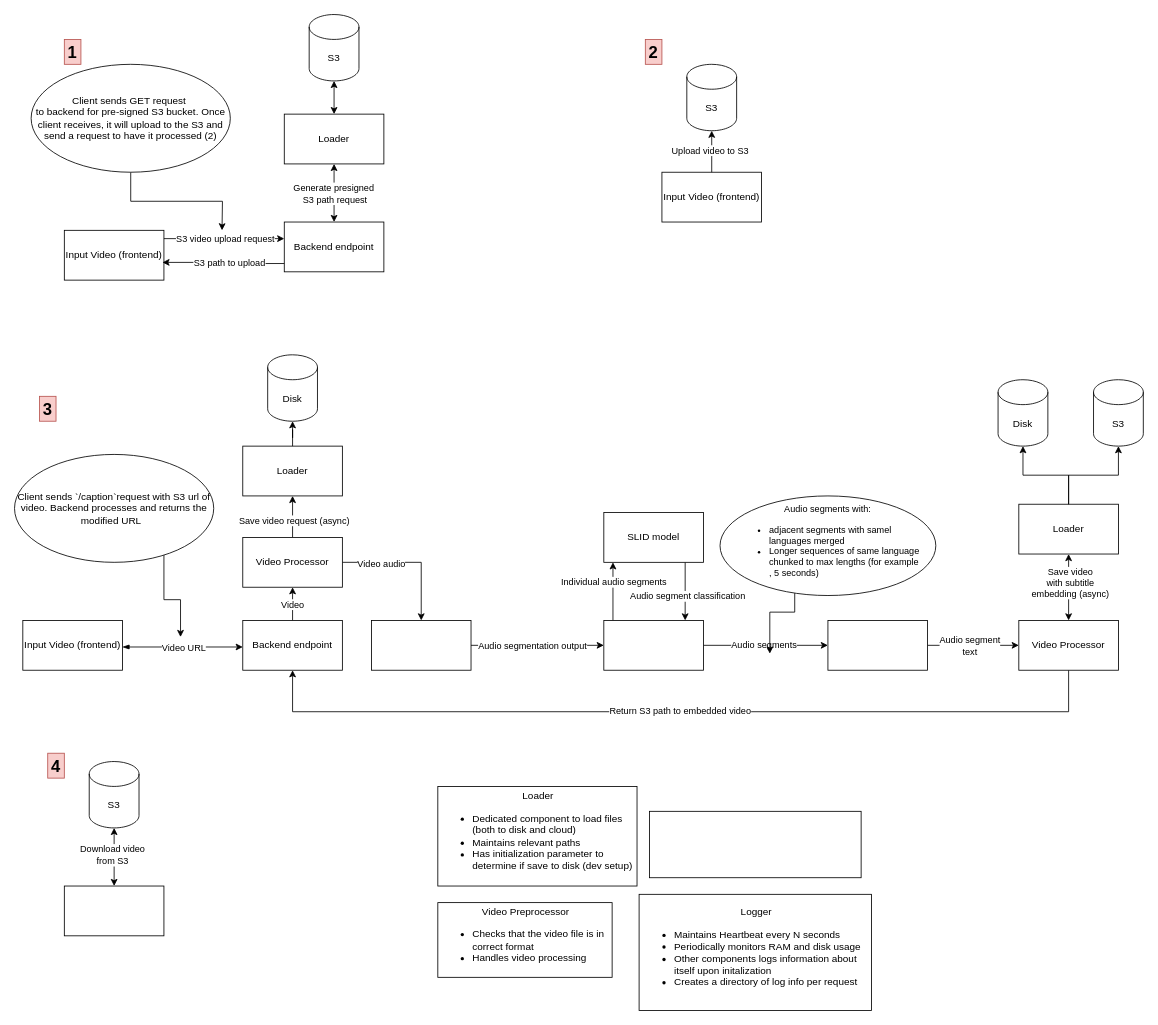
Some shapes in this 1158 by 1025 pixel diagram are drawn without their labels. Each missing label, with the centre of its shape:
ASR Model: the point at 877,645
Client: the point at 113,910
Runner Initializes and coordinates pipeline components: the point at 755,844
VAD Model: the point at 421,645
Video Processor (still has video audio stored as tensor): the point at 653,645
